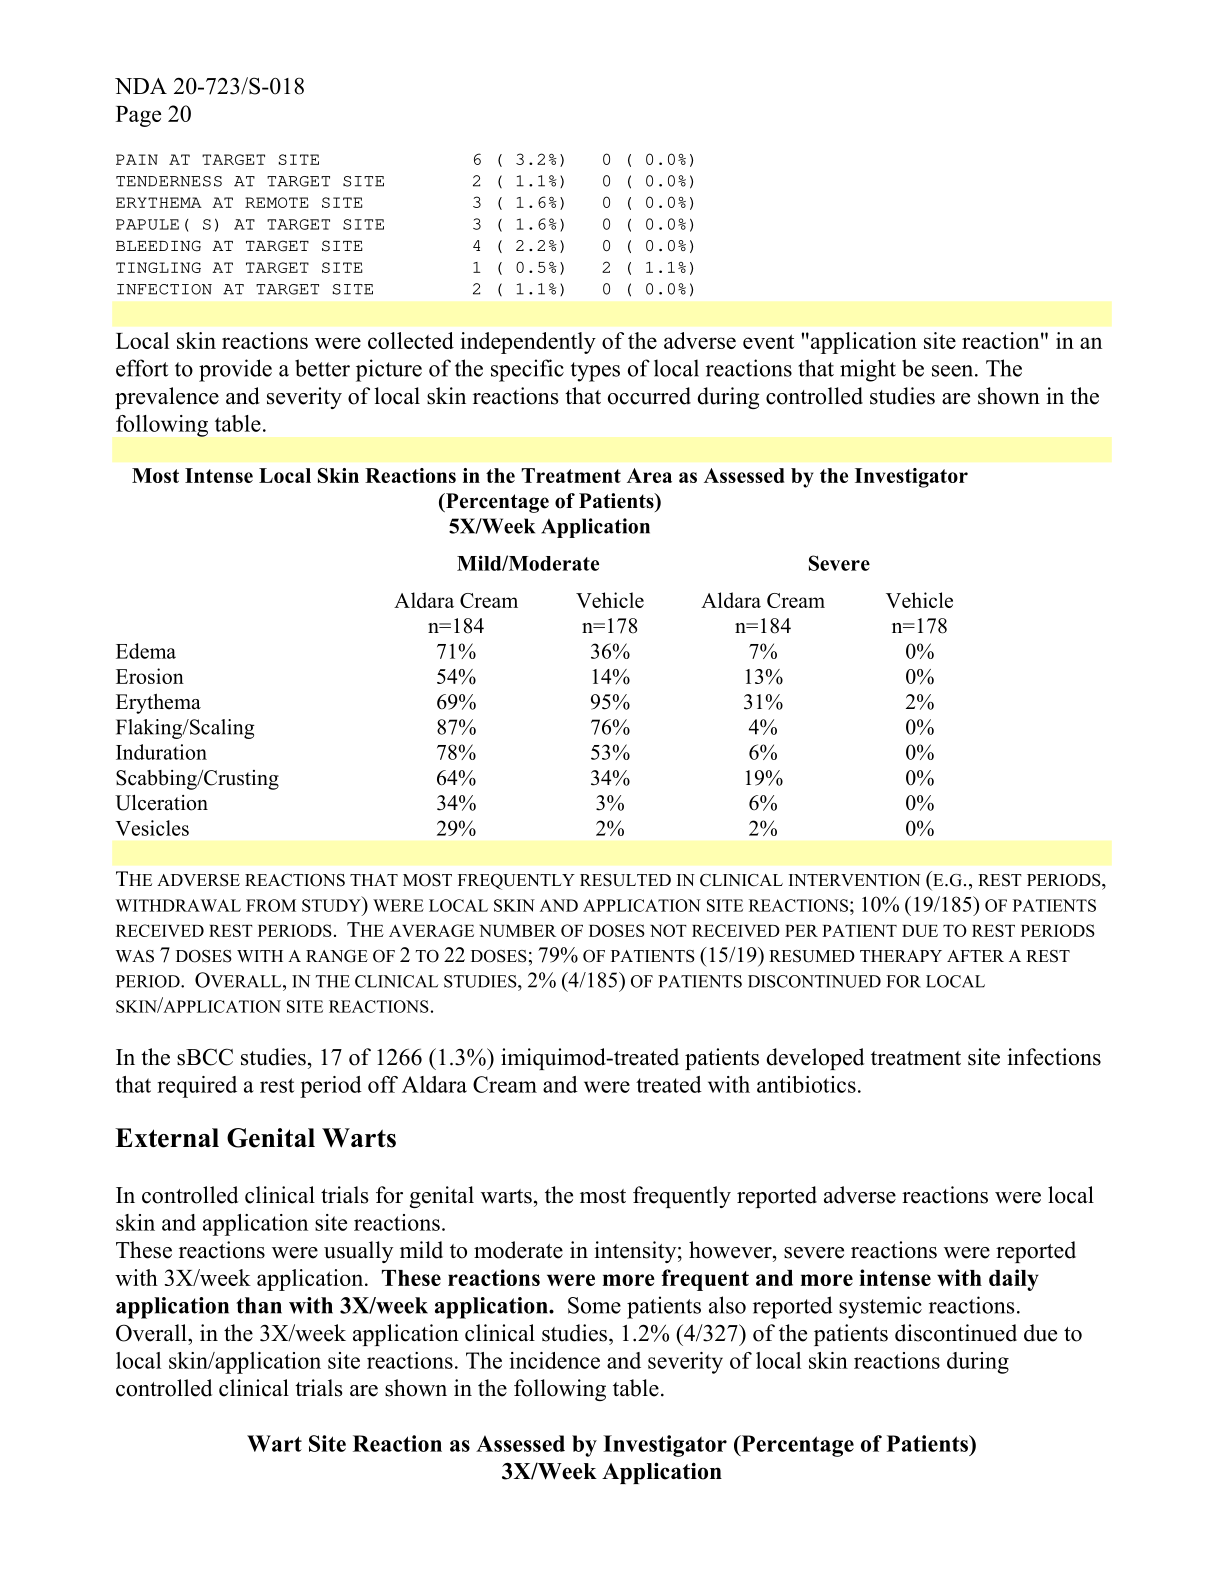nolines: (114, 554, 957, 843), (111, 149, 702, 298)
